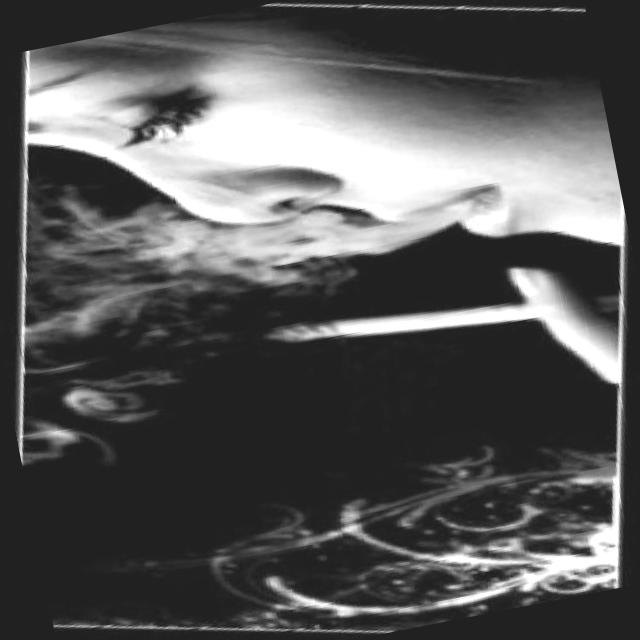cigarette: (253, 232, 633, 458)
